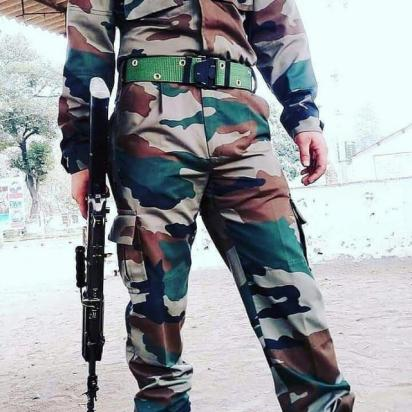Gun: (72, 74, 112, 411)
